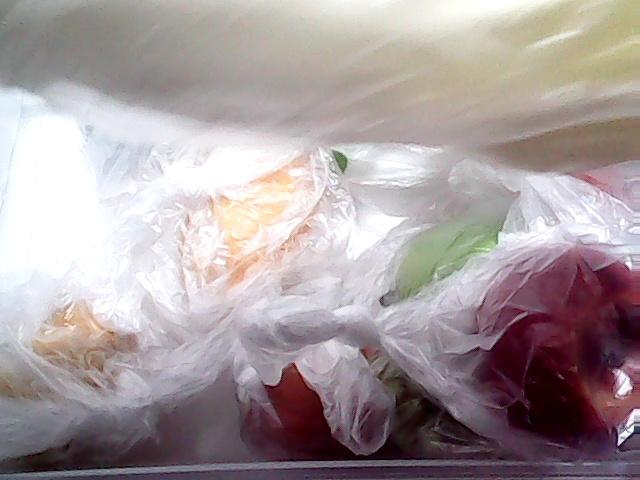apple: (460, 222, 640, 460)
carrot: (560, 148, 640, 210)
lemon: (170, 140, 326, 296)
napa cabbage: (0, 0, 640, 158)
peach: (237, 302, 408, 458)
potato: (0, 293, 146, 431)
